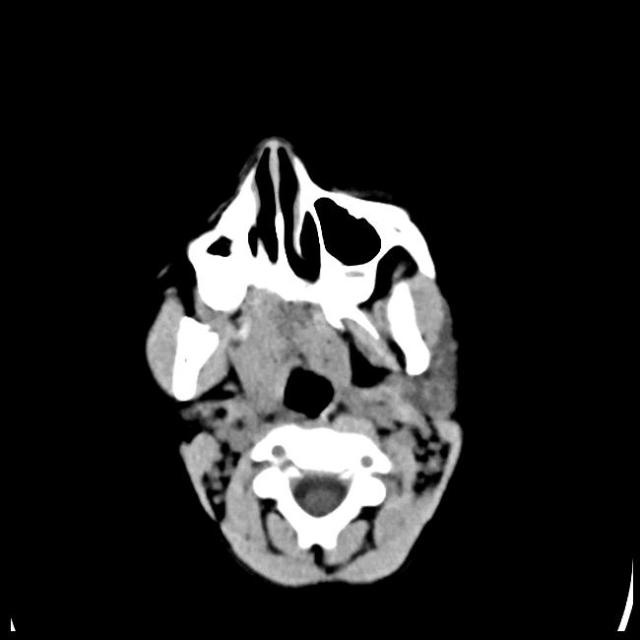lesion: (138, 132, 470, 593)
